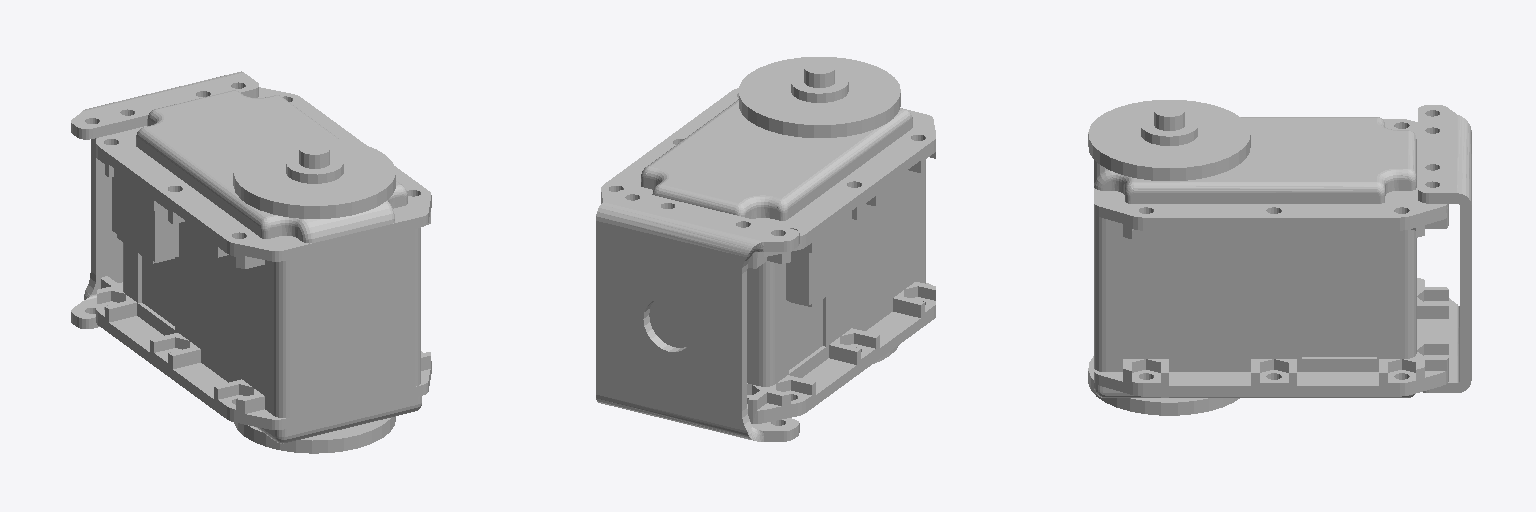
File: processed_tilt_servo.obj
3 renders of one model, left to right at view 1: azimuth 30°, elevation 25°; view 2: azimuth 150°, elevation 25°; view 3: azimuth 270°, elevation 25°, orthographic.
Visible parts, largest first — view 1: tilt_servo; view 2: tilt_servo; view 3: tilt_servo.
Part boxes in pixels (x1,y1,x2,y2): tilt_servo: (71, 71, 431, 453); tilt_servo: (596, 57, 935, 441); tilt_servo: (1088, 100, 1471, 415).
Size of the model in its own units: 0.0416 by 0.056 by 0.066.